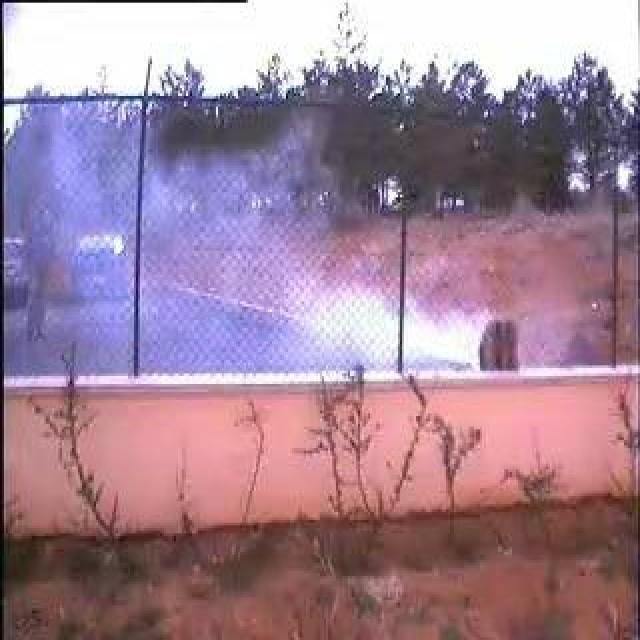Smoke: (159, 168, 479, 368)
